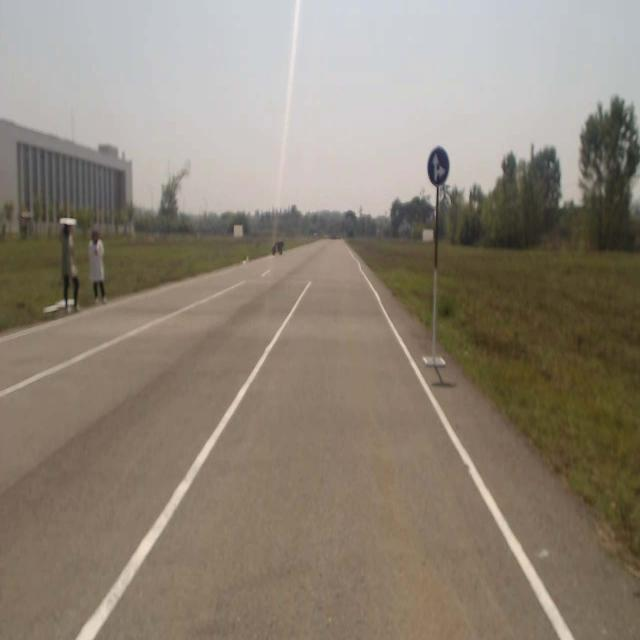ilerisag: (428, 149, 450, 188)
